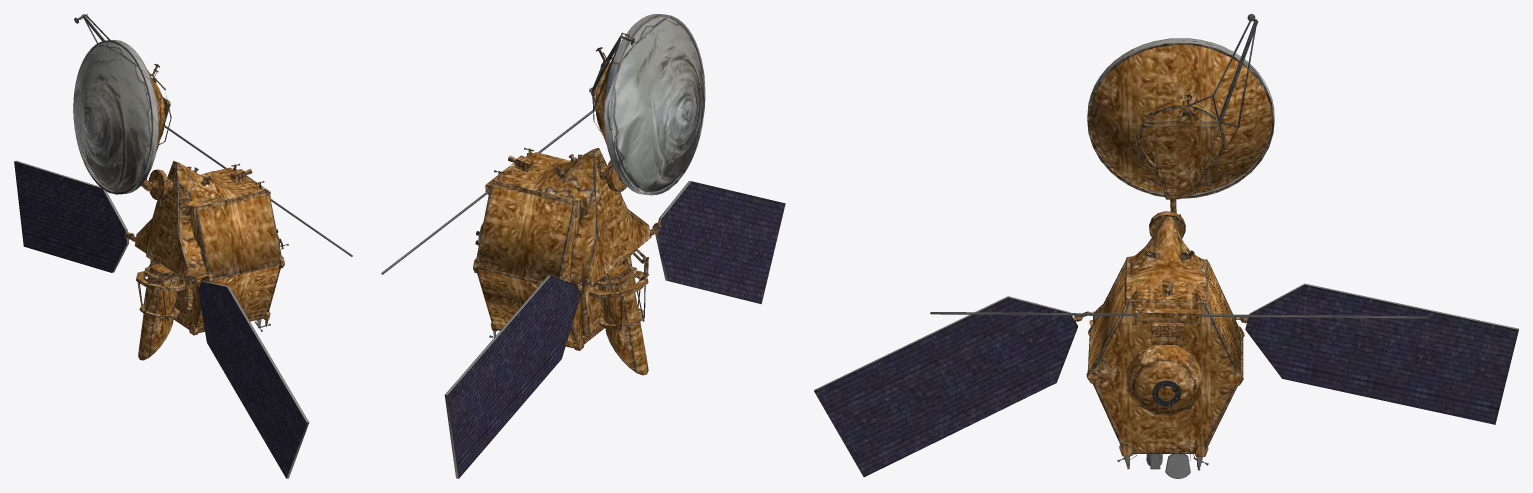
File: mro.glb
3 views of the same model, side by side, from view 1: azimuth 30°, elevation 25°; view 2: azimuth 150°, elevation 25°; view 3: azimuth 270°, elevation 25° (orthographic). The views are drawn at different scales.
Parts seen in each view (by area): view 1: mro_proxy7, mro_proxy5, mro_proxy3, mro_proxy6, mro_proxy2; view 2: mro_proxy7, mro_proxy5, mro_proxy3, mro_proxy6, mro_proxy2; view 3: mro_proxy7, mro_proxy6, mro_proxy5.
Boxes of the visible parts, x1,y1,x2,y2 form: mro_proxy7: (14, 14, 352, 478); mro_proxy5: (134, 161, 213, 335); mro_proxy3: (129, 173, 193, 360); mro_proxy6: (230, 163, 284, 328); mro_proxy2: (137, 259, 181, 320); mro_proxy7: (381, 14, 785, 478); mro_proxy5: (477, 148, 660, 350); mro_proxy3: (581, 160, 658, 375); mro_proxy6: (473, 147, 534, 337); mro_proxy2: (601, 249, 648, 330); mro_proxy7: (814, 14, 1518, 477); mro_proxy6: (1086, 281, 1243, 470); mro_proxy5: (1082, 217, 1244, 478).
Size of the model in its own units: 4.97 by 9.24 by 13.6.
2 materials, 2 textured.
